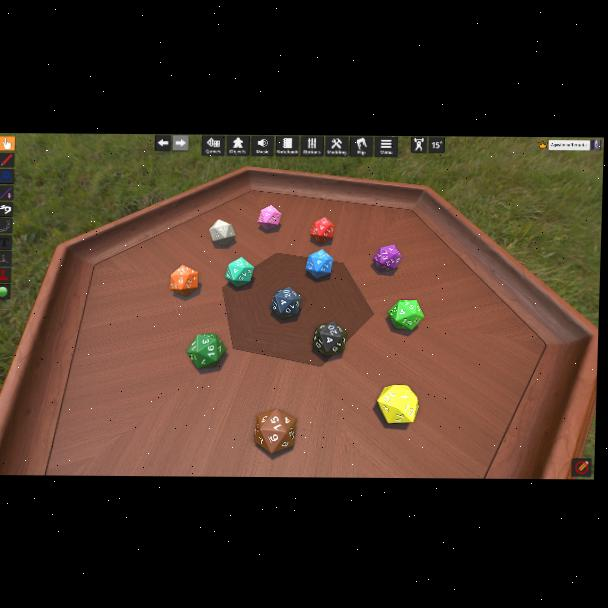d20: (253, 408, 297, 454), (377, 384, 416, 422), (186, 332, 224, 369), (311, 324, 345, 357), (388, 299, 422, 331), (269, 288, 301, 319), (170, 265, 199, 296), (305, 249, 334, 278), (225, 257, 253, 287), (372, 245, 401, 273), (208, 219, 234, 246), (309, 217, 335, 244), (258, 204, 282, 232)
